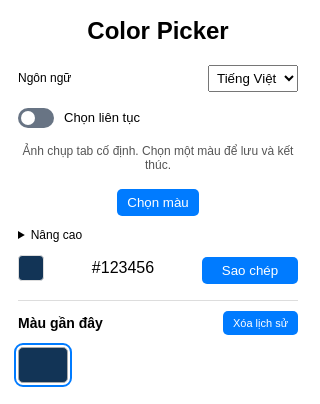
Scenario: language selection › keeps the product name while translating history and custom picker controls
The image size is (320, 404).
Expected: the button "Xóa lịch sử" is shown, [223,311,298,335]
Expected: the heading "Color Picker" is shown, [87,17,229,44]
Step 1. Click the switch labelled "Chọn liên tục" → (79, 118), box [18,108,140,128]
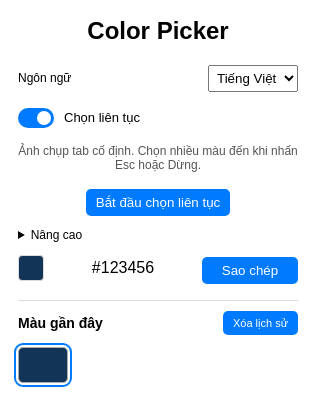
Result: the button "Bắt đầu chọn liên tục" is shown at [86,189,230,216]
Step 2. Click the button "Xóa lịch sử" → (260, 323), box [223,311,298,335]
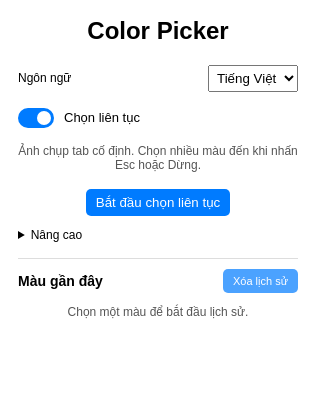
Result: the text "Chọn một màu để bắt đầu lịch sử." is shown at [68,305,248,319]
